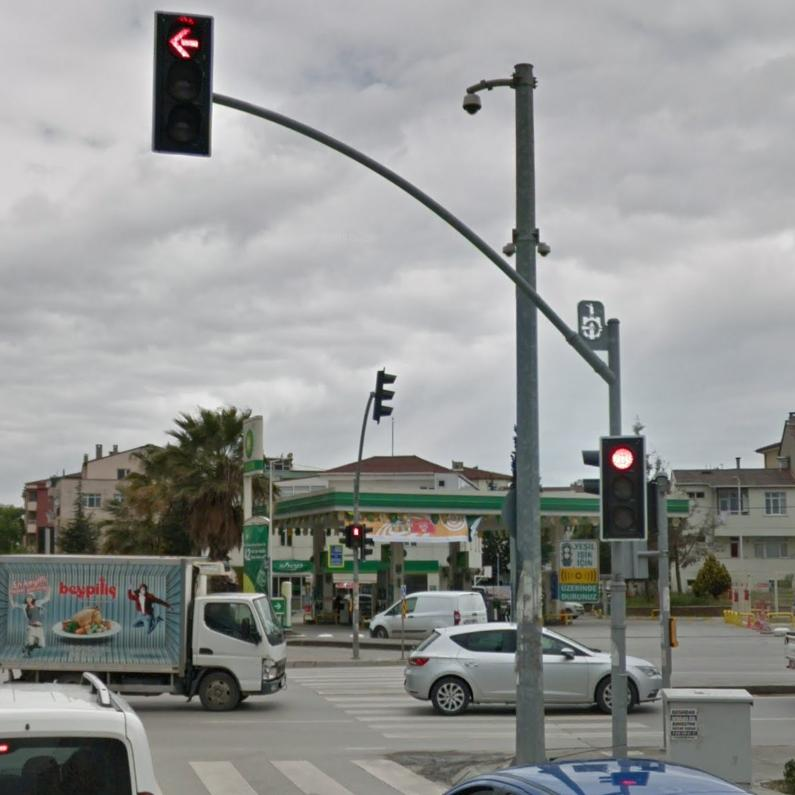redlight: (153, 10, 212, 155), (602, 438, 645, 537)
